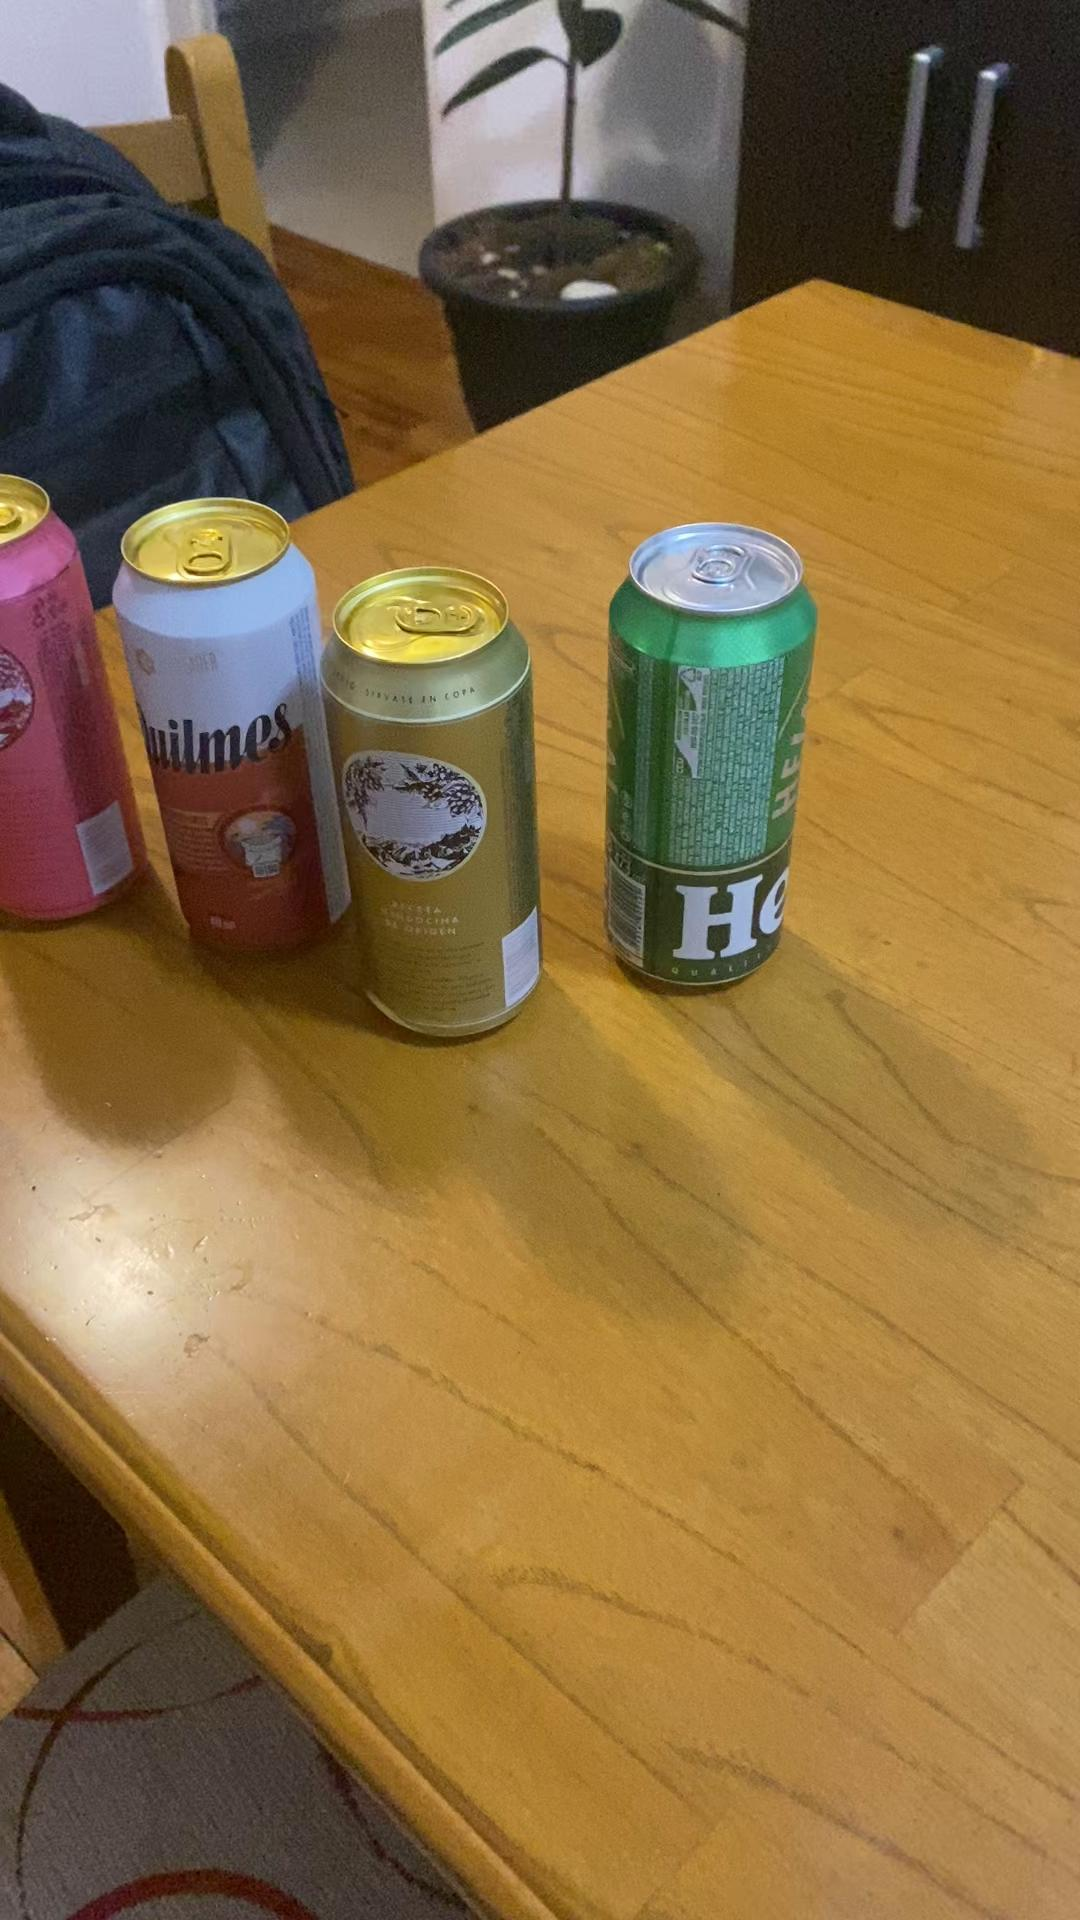metal: (113, 498, 348, 949), (322, 564, 539, 1036), (607, 524, 816, 985)
